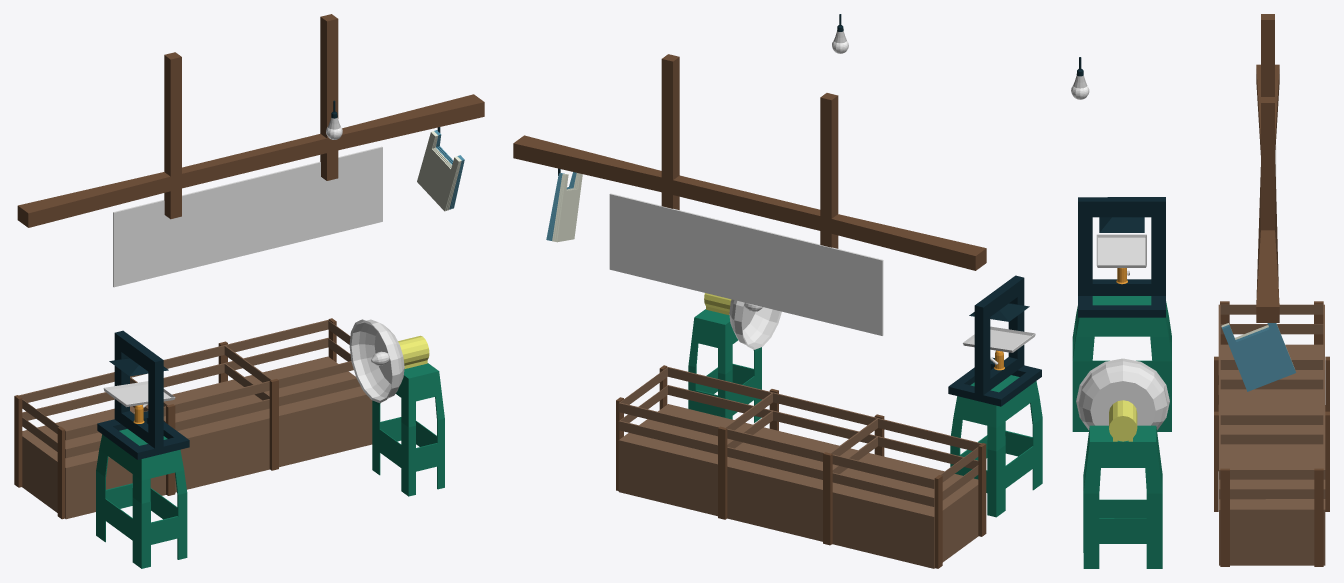
File: niyogstall.fbx
3 renders of one model, left to right at view 1: azimuth 30°, elevation 25°; view 2: azimuth 150°, elevation 25°; view 3: azimuth 270°, elevation 25°, orthographic. The views are drawn at different scales.
Parts seen in each view (by area): view 1: lagayan, stallname, niyogstall, chair, chair.001, pampiga, Cube.126, machine, plastic, Cylinder.016, Plane.012; view 2: lagayan, stallname, niyogstall, chair, pampiga, Cube.126, chair.001, plastic, machine, Plane.012; view 3: lagayan, chair.001, pampiga, niyogstall, chair, machine, Cube.126, plastic, Plane.012, Cylinder.016, light.
Part boxes in pixels (x1=…): lagayan: x1=18, y1=320, x2=372, y2=519; stallname: x1=113, y1=146, x2=382, y2=287; niyogstall: x1=17, y1=14, x2=484, y2=227; chair: x1=96, y1=429, x2=187, y2=568; chair.001: x1=372, y1=363, x2=444, y2=496; pampiga: x1=97, y1=330, x2=189, y2=459; Cube.126: x1=14, y1=318, x2=336, y2=519; machine: x1=349, y1=319, x2=404, y2=402; plastic: x1=417, y1=130, x2=464, y2=211; Cylinder.016: x1=371, y1=335, x2=429, y2=368; Plane.012: x1=103, y1=381, x2=175, y2=407; lagayan: x1=618, y1=367, x2=981, y2=568; stallname: x1=609, y1=193, x2=883, y2=335; niyogstall: x1=513, y1=54, x2=986, y2=270; chair: x1=950, y1=375, x2=1042, y2=517; pampiga: x1=948, y1=275, x2=1041, y2=406; Cube.126: x1=616, y1=365, x2=986, y2=568; chair.001: x1=688, y1=309, x2=761, y2=422; plastic: x1=546, y1=172, x2=582, y2=242; machine: x1=729, y1=299, x2=781, y2=349; Plane.012: x1=963, y1=326, x2=1035, y2=352; lagayan: x1=1218, y1=304, x2=1325, y2=565; chair.001: x1=1083, y1=425, x2=1162, y2=568; pampiga: x1=1078, y1=197, x2=1165, y2=317; niyogstall: x1=1256, y1=14, x2=1279, y2=322; chair: x1=1072, y1=296, x2=1171, y2=431; machine: x1=1076, y1=358, x2=1169, y2=430; Cube.126: x1=1214, y1=301, x2=1329, y2=566; plastic: x1=1221, y1=323, x2=1295, y2=391; Plane.012: x1=1096, y1=234, x2=1146, y2=267; Cylinder.016: x1=1109, y1=400, x2=1137, y2=441; light: x1=1071, y1=57, x2=1089, y2=99.
Bounding box in the file's own units: 6.83 × 5.98 × 3.08.
